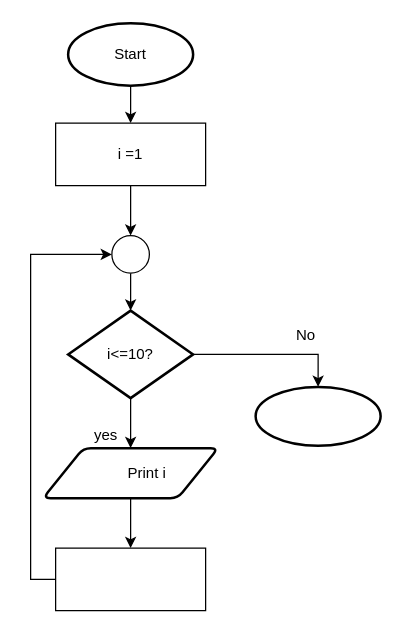
The diagram is 404 pixels wide and 633 high, and some of its shapes have lost their labels. Here are the shapes that lost their labels. From the top down, the centre of each, then its label:
[317,415]: Stop
[130,579]: i = i+1
